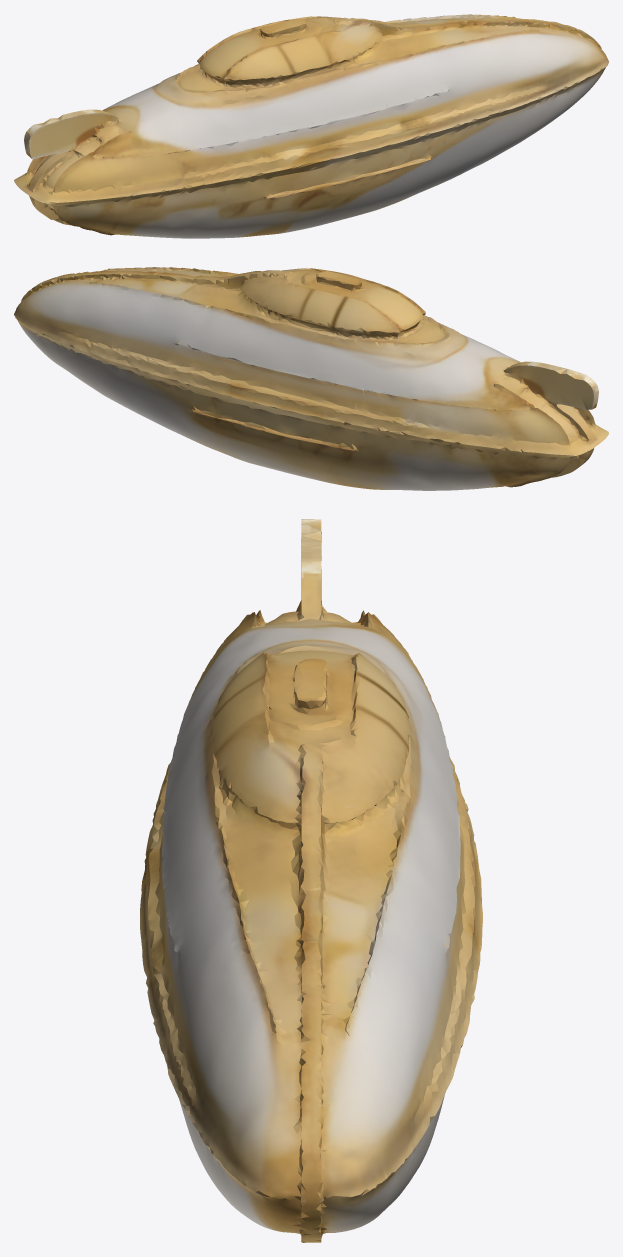
File: valkyrie_hull.glb
3 renders of one model, top to bottom at view 1: azimuth 30°, elevation 25°; view 2: azimuth 150°, elevation 25°; view 3: azimuth 270°, elevation 25°, orthographic. The views are drawn at different scales.
Visible parts, largest first — view 1: valkyrie_hull; view 2: valkyrie_hull; view 3: valkyrie_hull.
Part boxes in pixels (x1,y1,x2,y2): valkyrie_hull: (14, 14, 608, 238); valkyrie_hull: (14, 267, 608, 490); valkyrie_hull: (140, 519, 482, 1242).
Bounding box in the file's own units: 1.89 × 0.6213 × 0.4888.
1 material, 1 textured.
